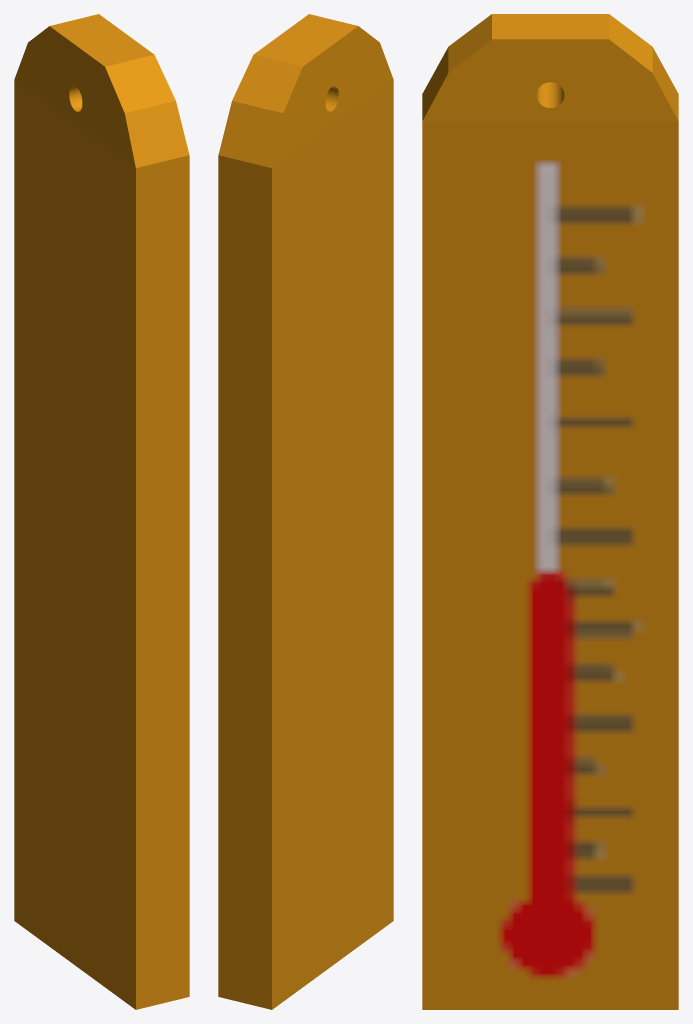
Rendered from M_INT_Thermometer.fbx.
The picture shows the model from 3 angles, left to right: view 1: azimuth 30°, elevation 25°; view 2: azimuth 150°, elevation 25°; view 3: azimuth 270°, elevation 25°; orthographic projection. The views are drawn at different scales.
Visible parts, largest first — view 1: Thermometer; view 2: Thermometer; view 3: Thermometer.
Part boxes in pixels (<box>): Thermometer: <box>14,14,189,1009</box>; Thermometer: <box>218,14,393,1009</box>; Thermometer: <box>422,14,678,1009</box>.
Size of the model in its own units: 2.93 by 47.9 by 11.48.
1 material, 1 textured.
